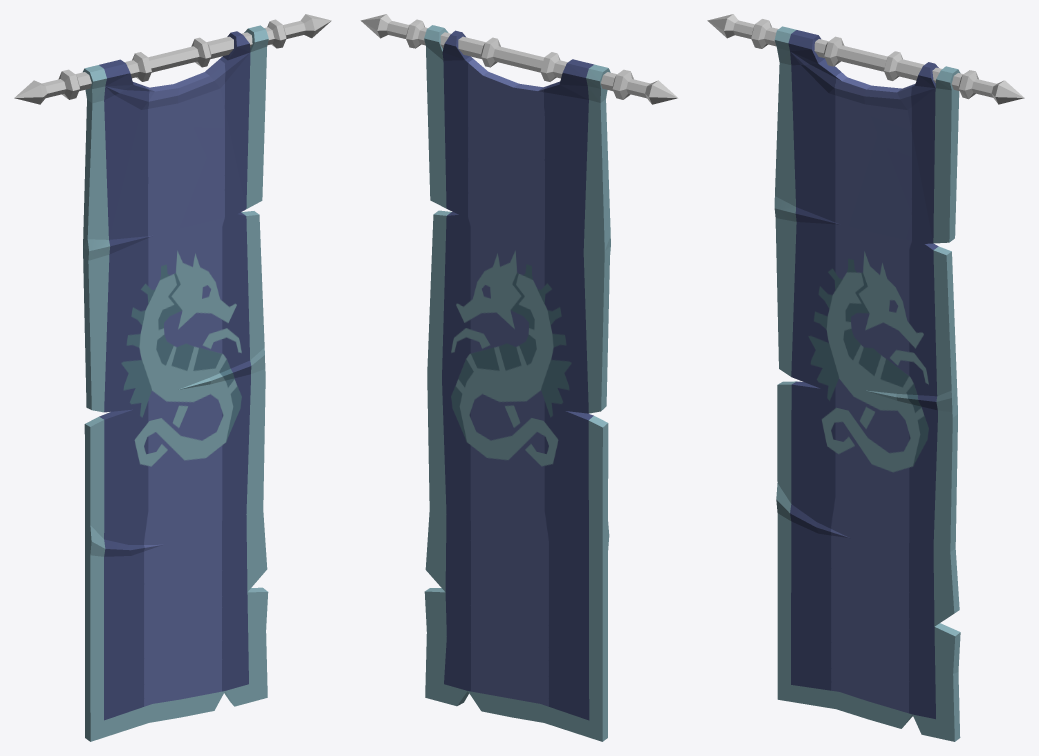
Rendered from SM_Prop_Flag_08.fbx.
The picture shows the model from 3 angles, left to right: view 1: azimuth 30°, elevation 25°; view 2: azimuth 150°, elevation 25°; view 3: azimuth 330°, elevation 25°; orthographic projection.
Parts seen in each view (by area): view 1: SM_Prop_Flag_08_Flag, SM_Prop_Flag_08; view 2: SM_Prop_Flag_08_Flag, SM_Prop_Flag_08; view 3: SM_Prop_Flag_08_Flag, SM_Prop_Flag_08.
Part boxes in pixels (x1,y1,x2,y2): SM_Prop_Flag_08_Flag: (83,25,268,741); SM_Prop_Flag_08: (14,14,331,104); SM_Prop_Flag_08_Flag: (424,25,610,741); SM_Prop_Flag_08: (360,14,678,104); SM_Prop_Flag_08_Flag: (774,26,960,741); SM_Prop_Flag_08: (707,14,1024,104).
Bounding box in the file's own units: 123 × 247 × 9.97.
